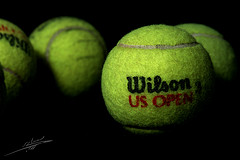tennis ball: (100, 22, 215, 138), (29, 12, 110, 98), (175, 22, 236, 84), (1, 14, 34, 101)
